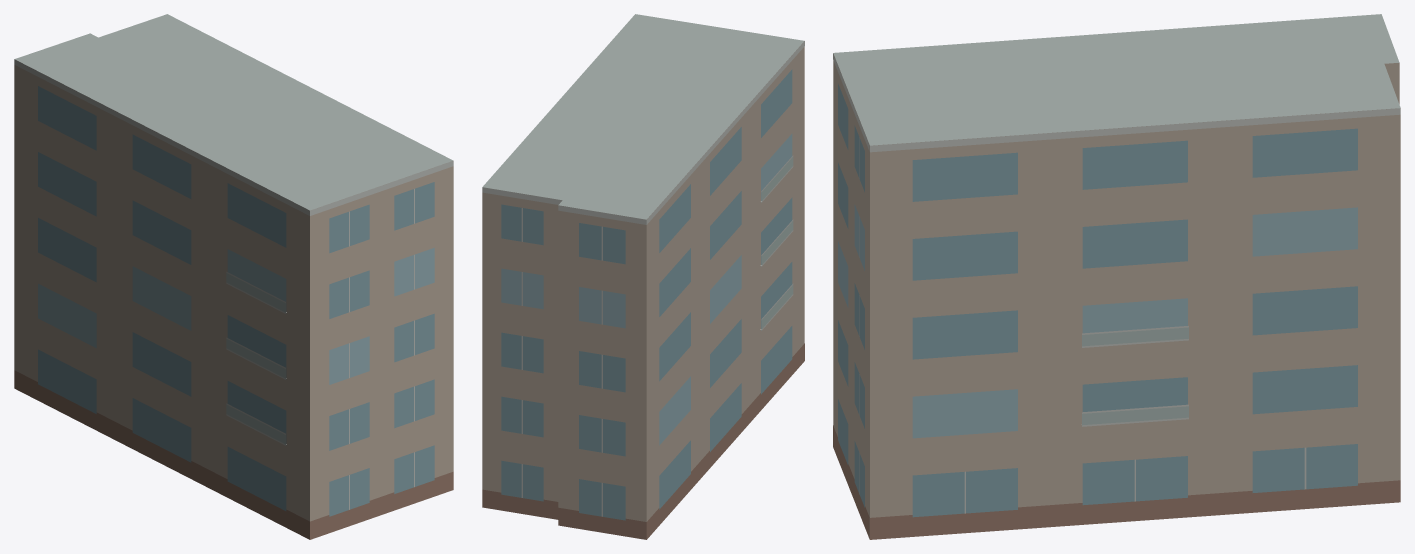
File: survey-upis-32702599.glb
3 renders of one model, left to right at view 1: azimuth 30°, elevation 25°; view 2: azimuth 150°, elevation 25°; view 3: azimuth 270°, elevation 25°, orthographic. The views are drawn at different scales.
Parts seen in each view (by area): view 1: survey-upis-32702599.tmp; view 2: survey-upis-32702599.tmp; view 3: survey-upis-32702599.tmp.
Part boxes in pixels (x1,y1,x2,y2): survey-upis-32702599.tmp: [14, 14, 453, 539]; survey-upis-32702599.tmp: [482, 14, 804, 539]; survey-upis-32702599.tmp: [833, 14, 1400, 539].
Bounding box in the file's own units: 10.4 × 14.5 × 18.93.
